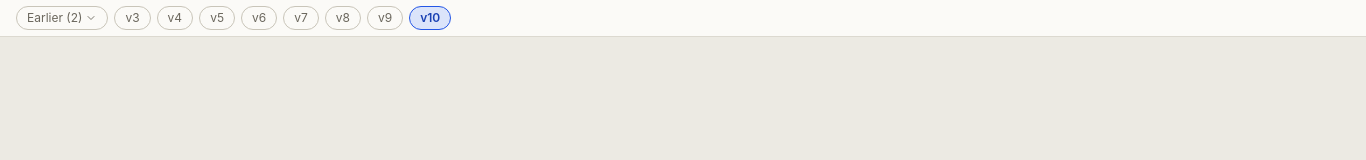
it: VersionStrip › with more than 8 versions › closes on Escape without selecting
Click the button "Earlier (2)".
click(62, 18)  # box [16, 6, 108, 30]
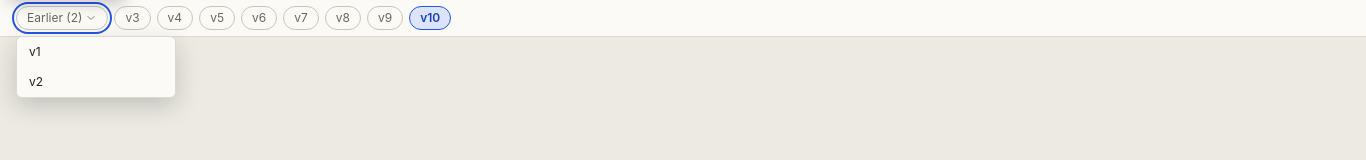
Now the list is shown, box [16, 36, 176, 98]
Press Escape
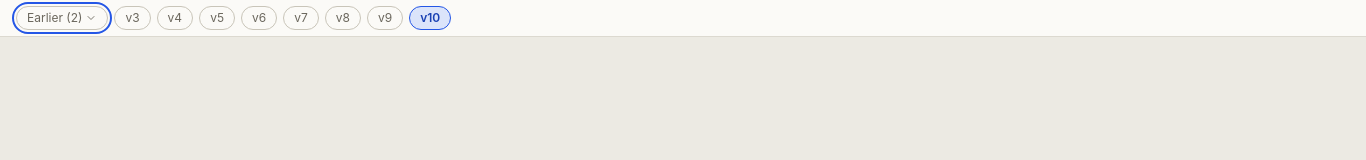
Now the list is gone
